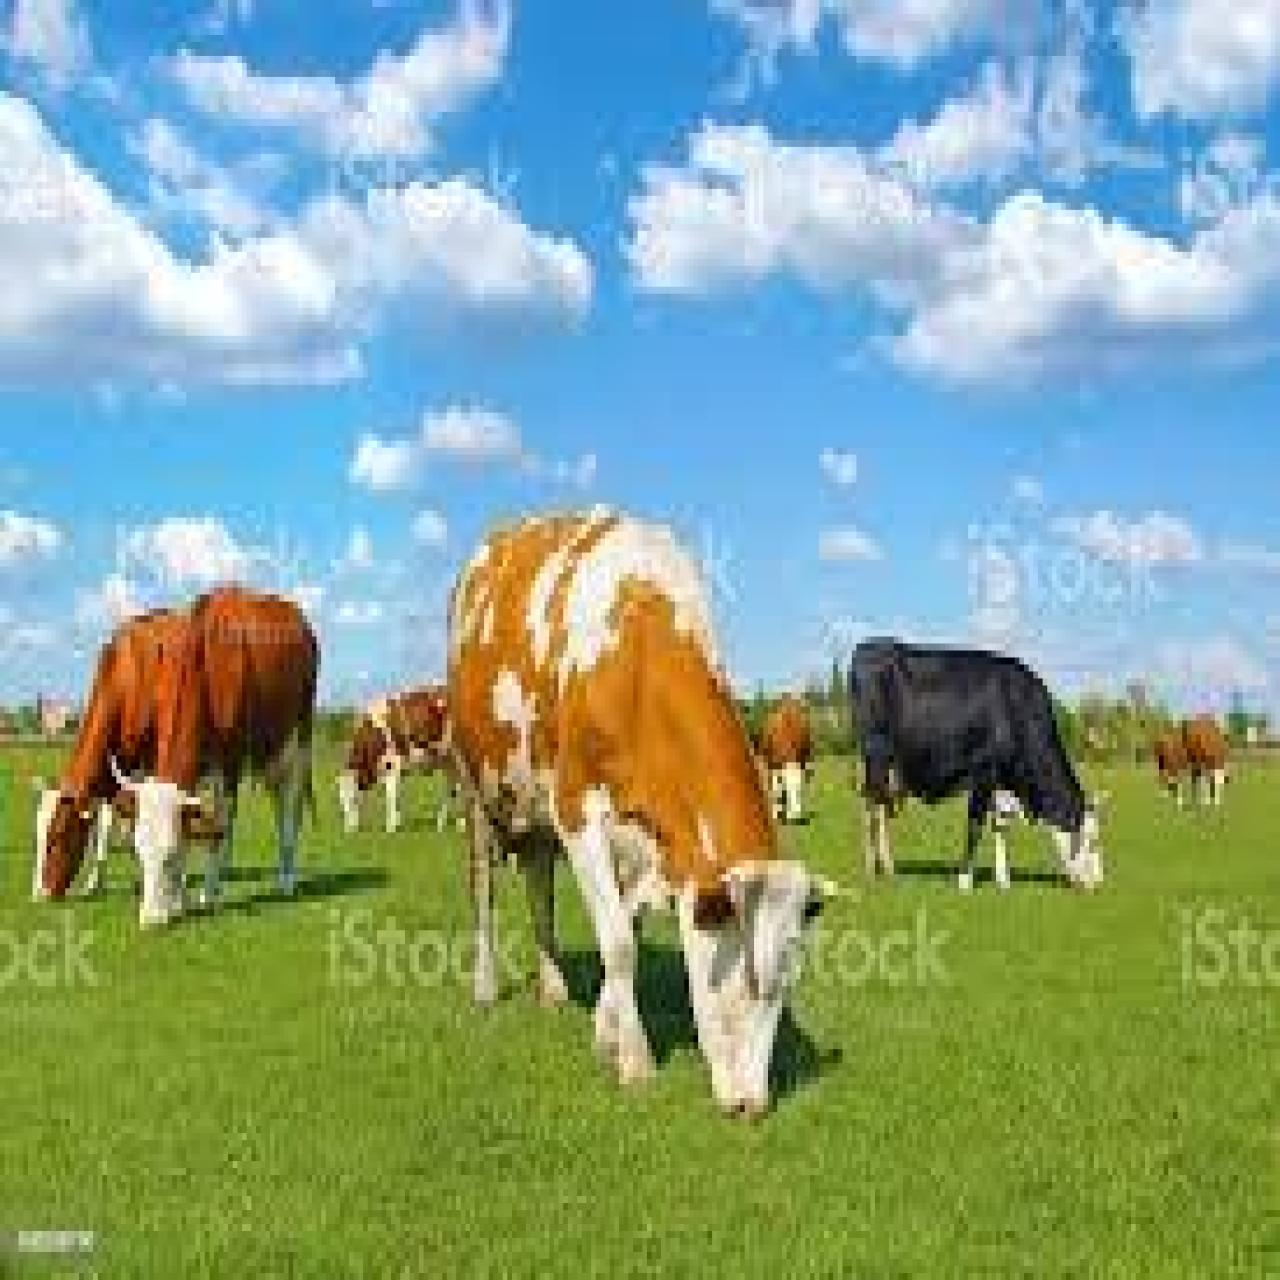cow: (435, 518, 812, 1133), (116, 584, 326, 941), (855, 633, 1105, 899), (30, 608, 184, 910), (333, 686, 444, 846), (1152, 710, 1226, 815), (763, 707, 810, 825)
